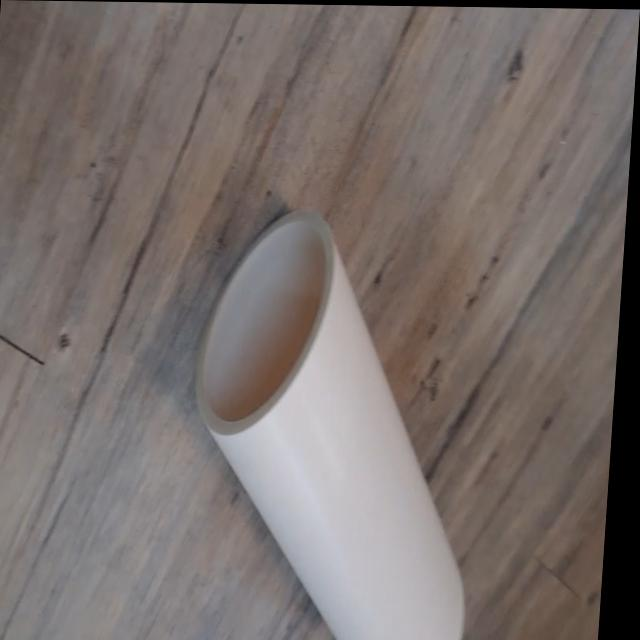CORAL: (173, 187, 509, 640)
